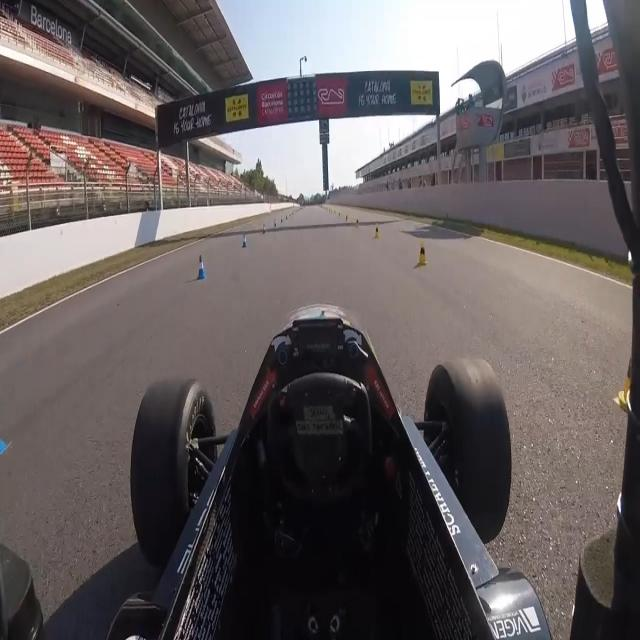blue_cone: (0, 428, 12, 464), (194, 252, 208, 282), (241, 233, 248, 249), (262, 222, 266, 235), (274, 218, 277, 228), (281, 216, 283, 224)
yellow_cone: (616, 335, 635, 416), (416, 237, 428, 269), (374, 226, 380, 240), (356, 217, 360, 229), (345, 213, 348, 224), (338, 211, 341, 219)
